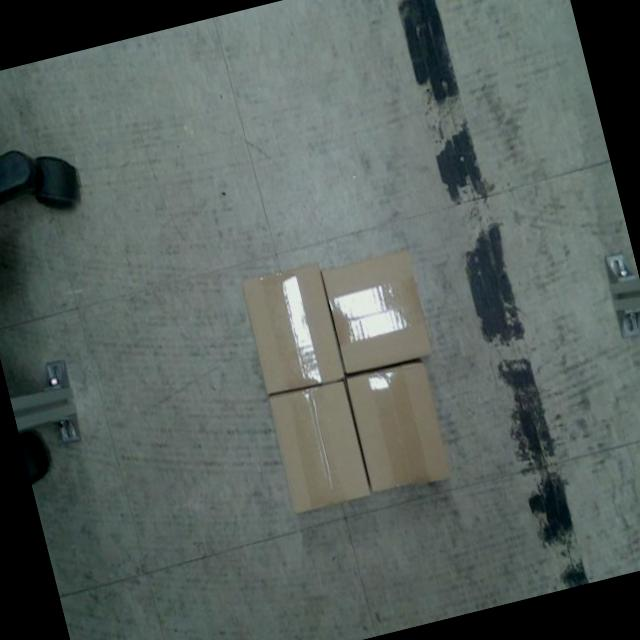box: (321, 246, 436, 378), (346, 358, 454, 497), (264, 378, 374, 514), (240, 259, 348, 396)
